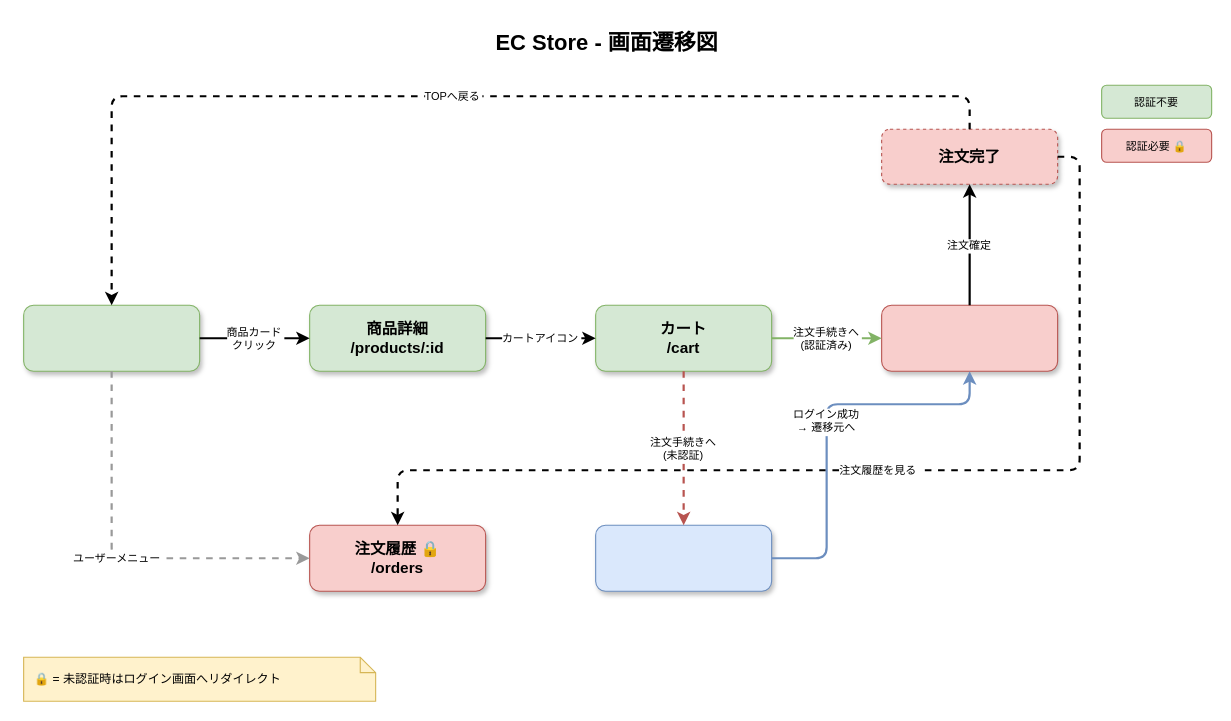
Image size: 1231x721. Some labels were removed from this diagram. Here are the shapes that lost their labels. From the top down, the centre of each, then its label:
At [112,339]: "TOP画面 /".
At [970,339]: "注文確定 🔒 /checkout".
At [684,559]: "ログイン /login".
